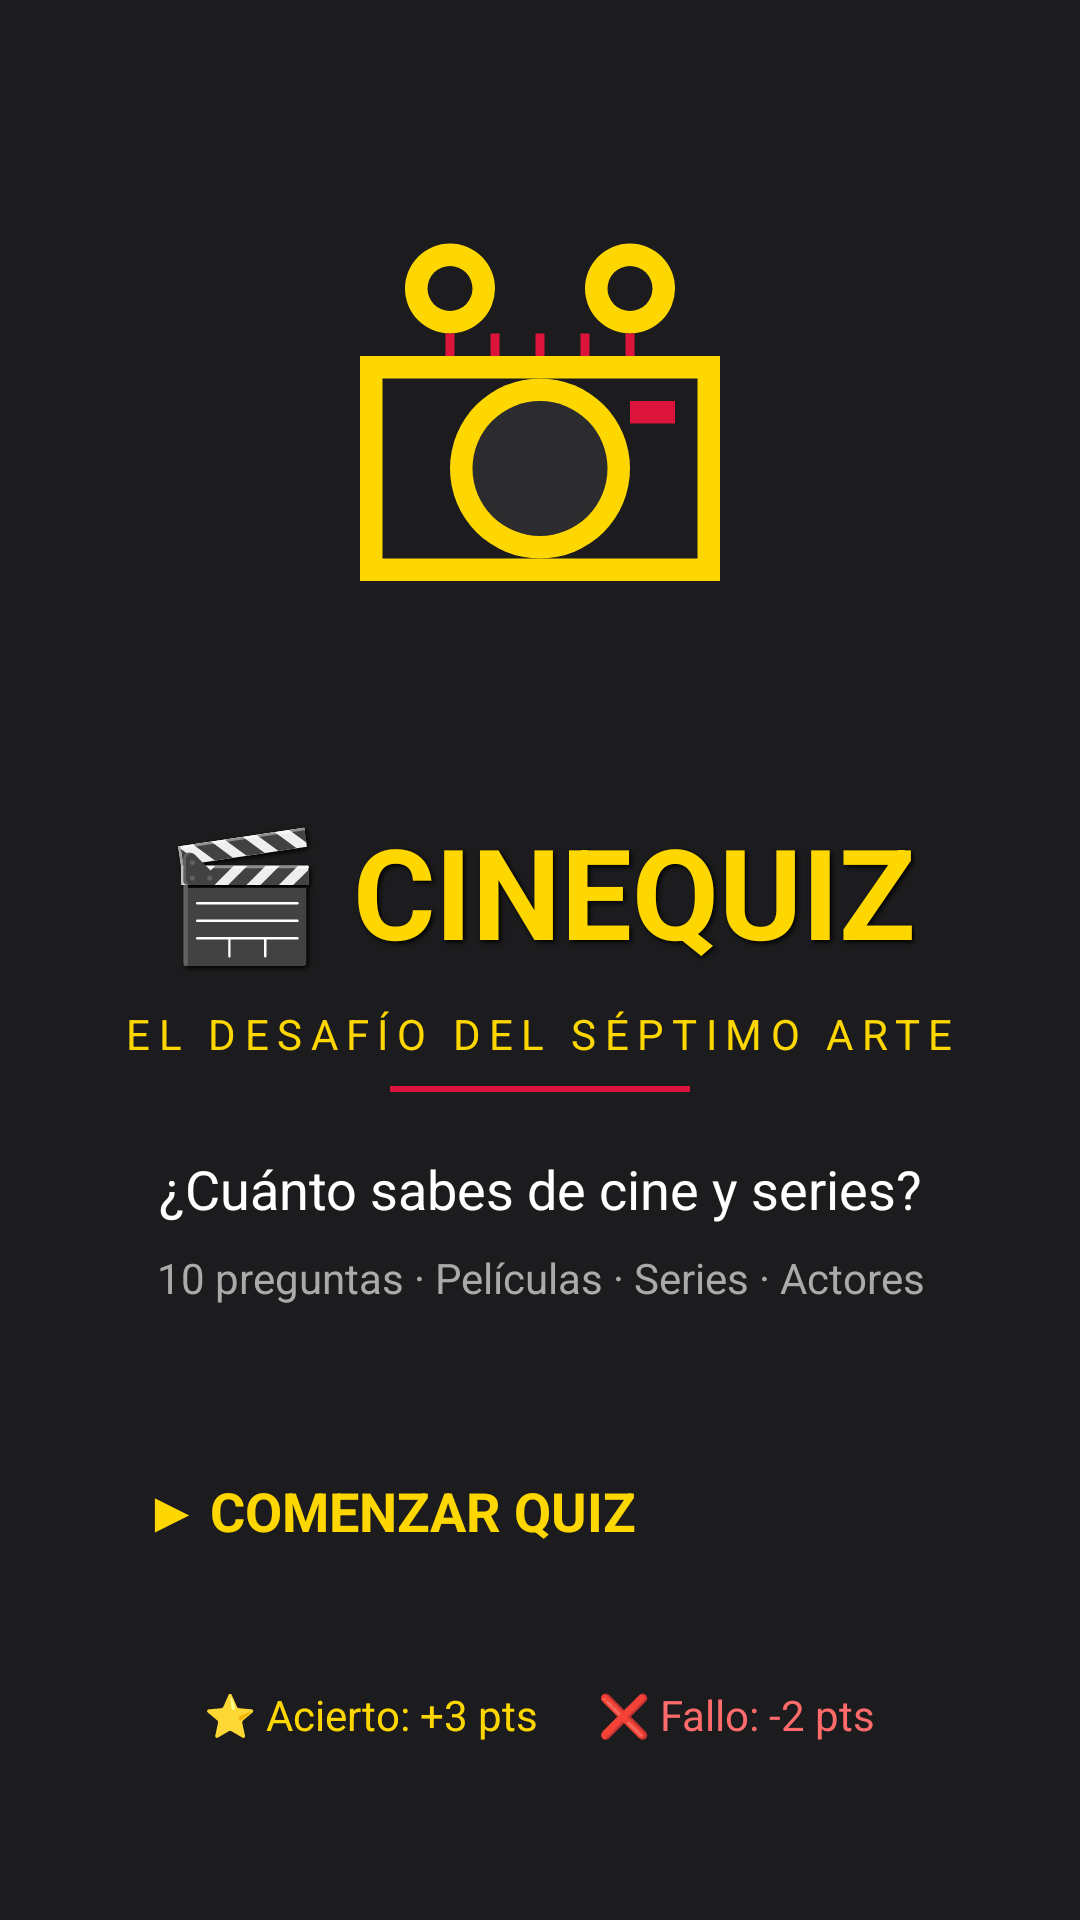

Icons on this 1080*1920 Android screen, each with its box as (x1, y1, x2, y2):
Cinema Icon: (360, 243, 720, 581)
